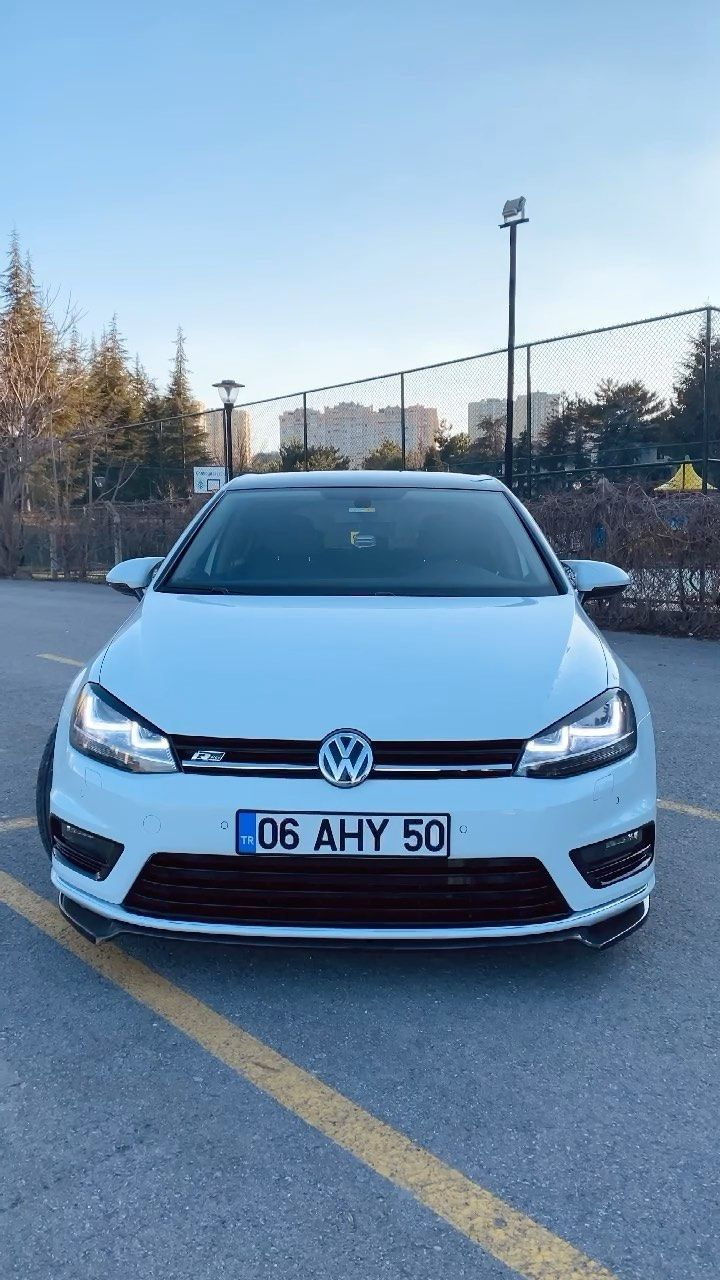plate: (235, 814, 451, 857)
